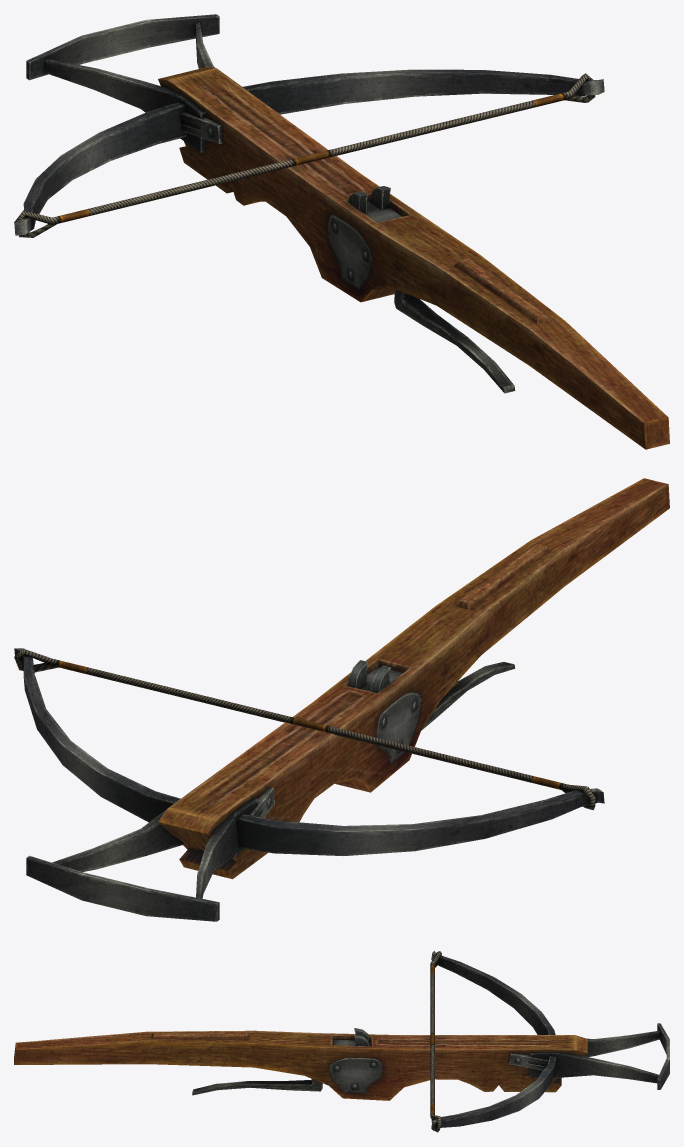
The model's file is lowpoly_crossbow_2_2.obj.
3 renders of one model, top to bottom at view 1: azimuth 30°, elevation 25°; view 2: azimuth 150°, elevation 25°; view 3: azimuth 270°, elevation 25°, orthographic. The views are drawn at different scales.
Parts seen in each view (by area): view 1: Circle; view 2: Circle; view 3: Circle.
Part boxes in pixels (box(x1,y1,x2,y2)): Circle: box(14, 14, 669, 449); Circle: box(14, 478, 669, 921); Circle: box(14, 950, 669, 1132).
Size of the model in its own units: 5.71 by 0.9445 by 9.12.
